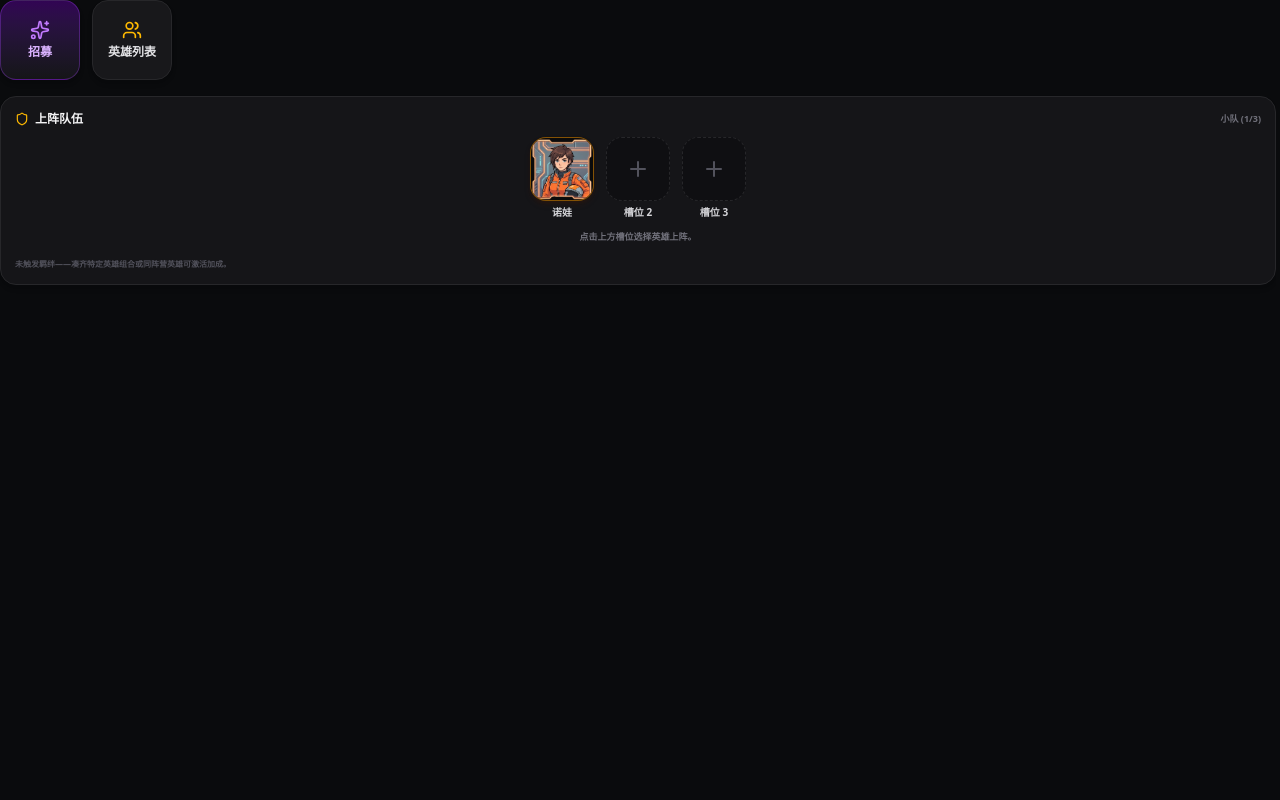
Test: HeroTab Component › awakens a max-star hero consuming the arcane orb (ticket 12)
Click the text "英雄列表" at (132, 52), box x1=108 y1=44 x2=156 y2=60
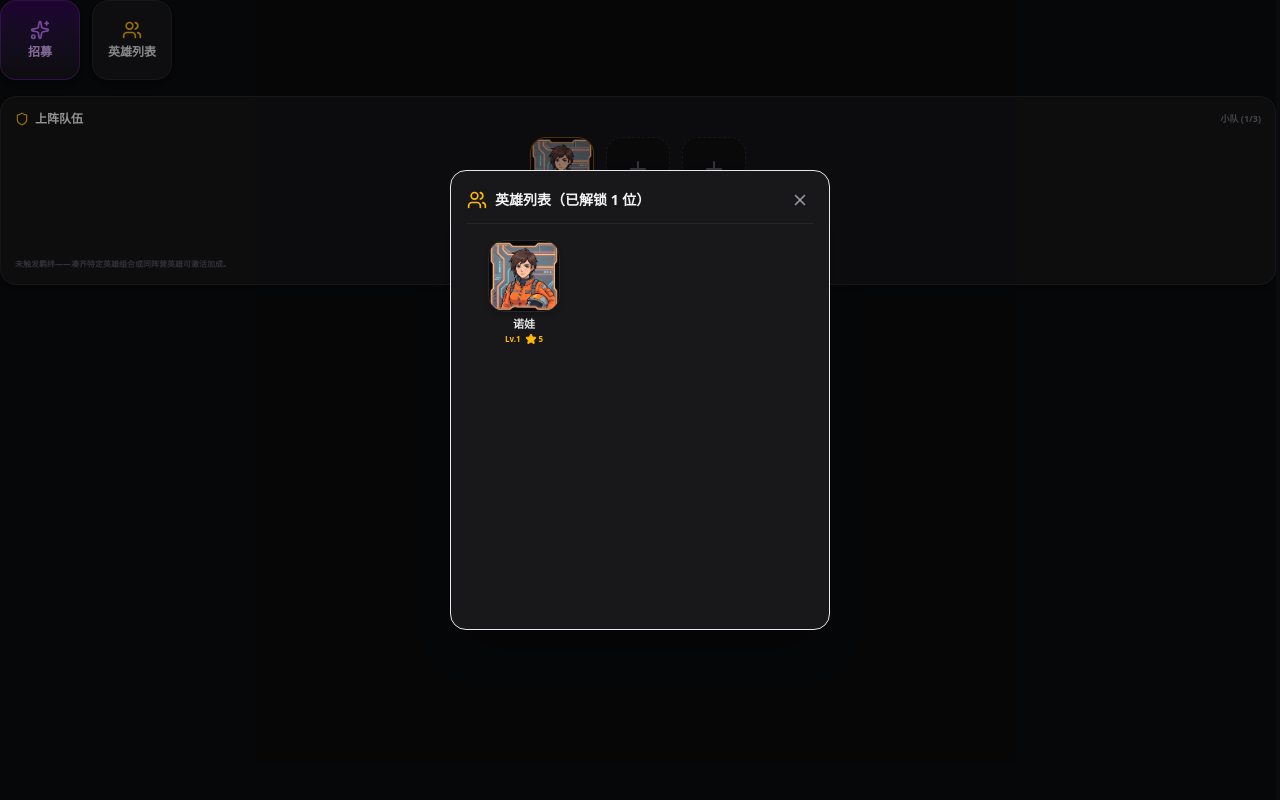
Click the element with test id "hero-card-nova" at (524, 293), box x1=488 y1=240 x2=560 y2=345
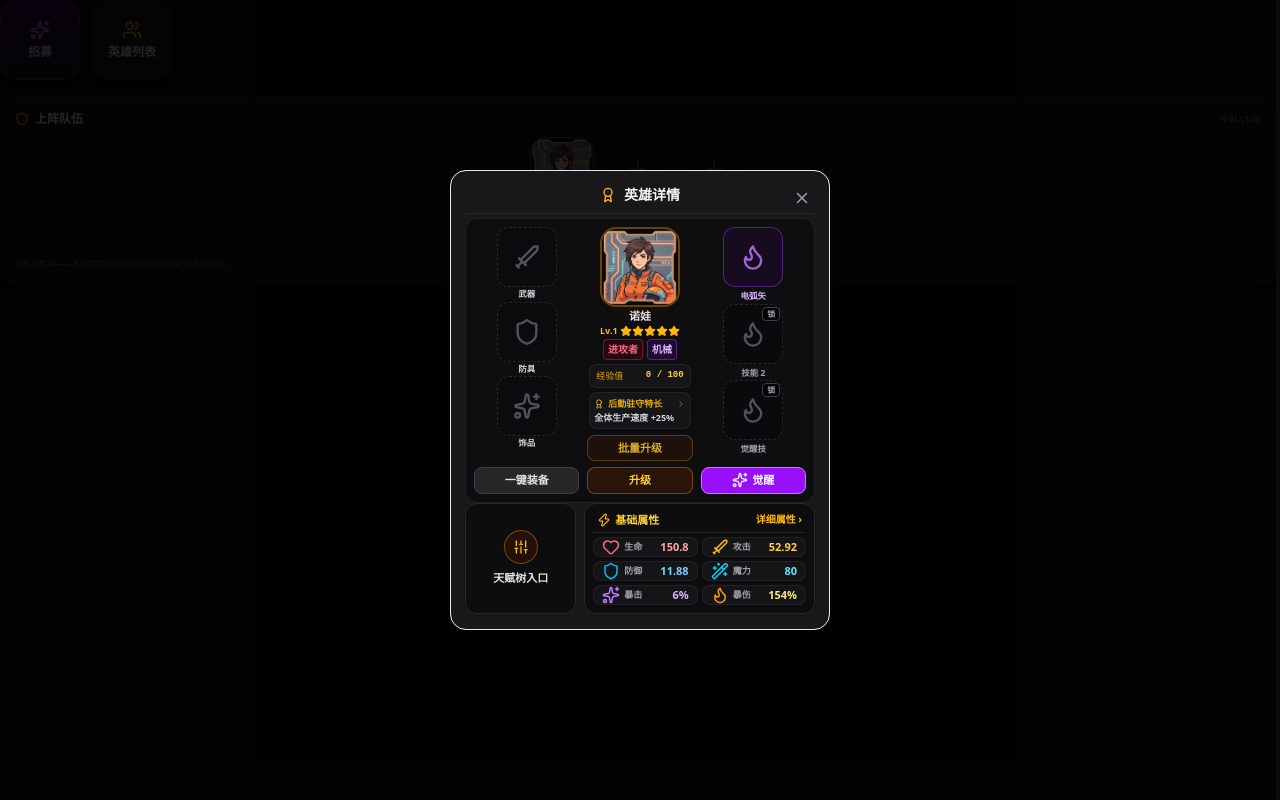
# 精确匹配「觉醒」按钮（详情弹窗技能槽标签「觉醒技」亦含此词，不可用正则宽匹配）
Click the button "觉醒" at (753, 480), box x1=701 y1=467 x2=806 y2=494
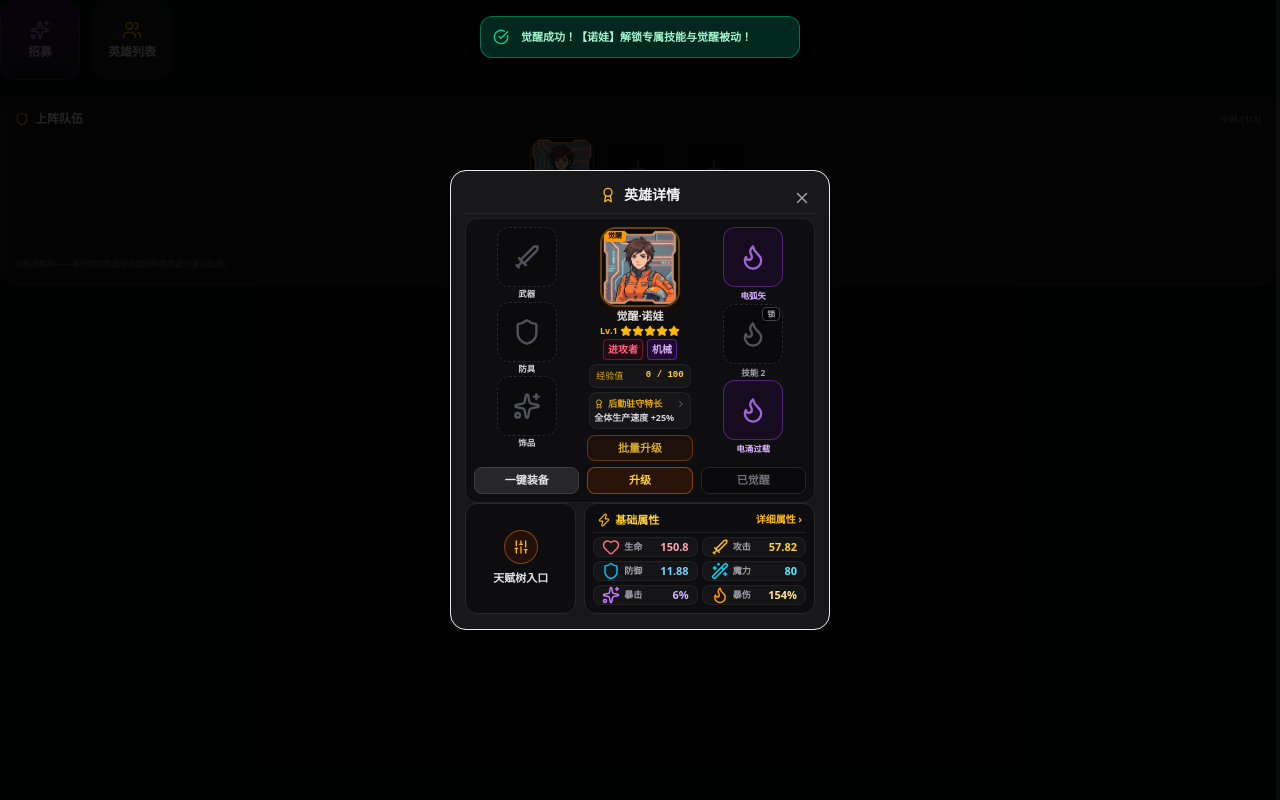
Expected: the text "觉醒·诺娃" is shown, x1=616 y1=309 x2=664 y2=323
